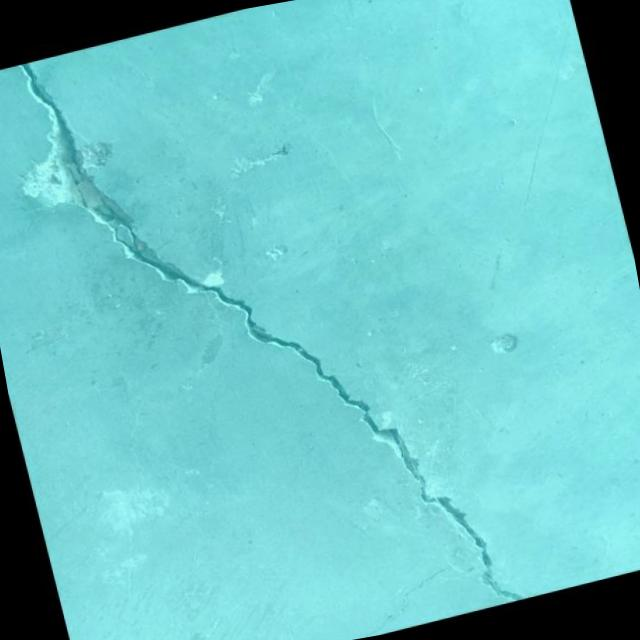crack: (16, 0, 527, 640), (348, 562, 469, 638), (120, 56, 162, 102), (82, 46, 100, 68)
